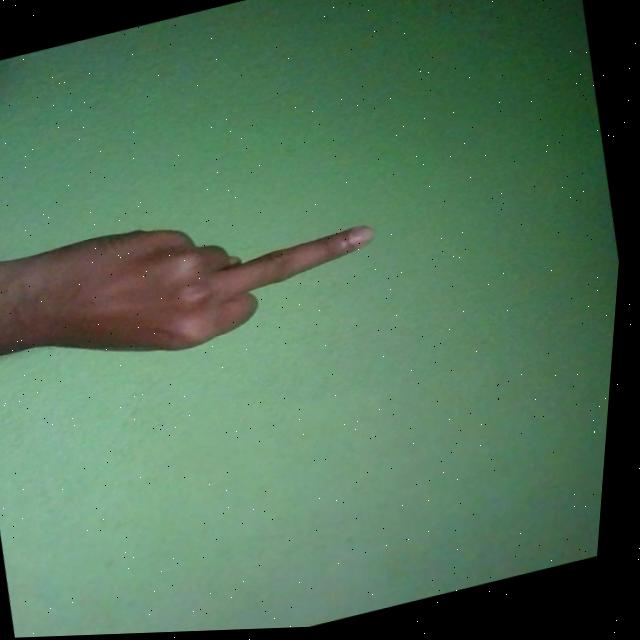Middle Finger: (0, 176, 395, 393)
